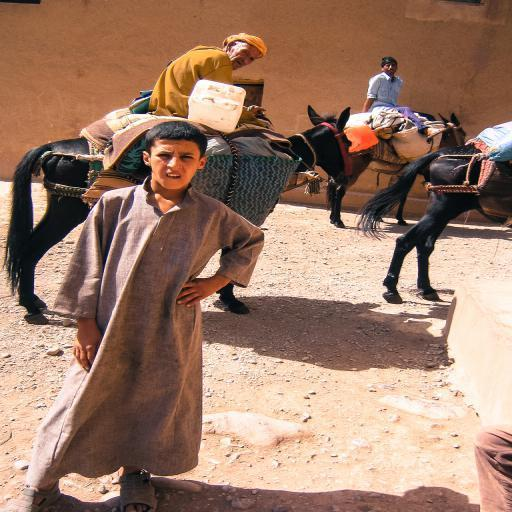horse: (4, 104, 358, 326), (356, 142, 512, 306), (324, 113, 468, 231)
